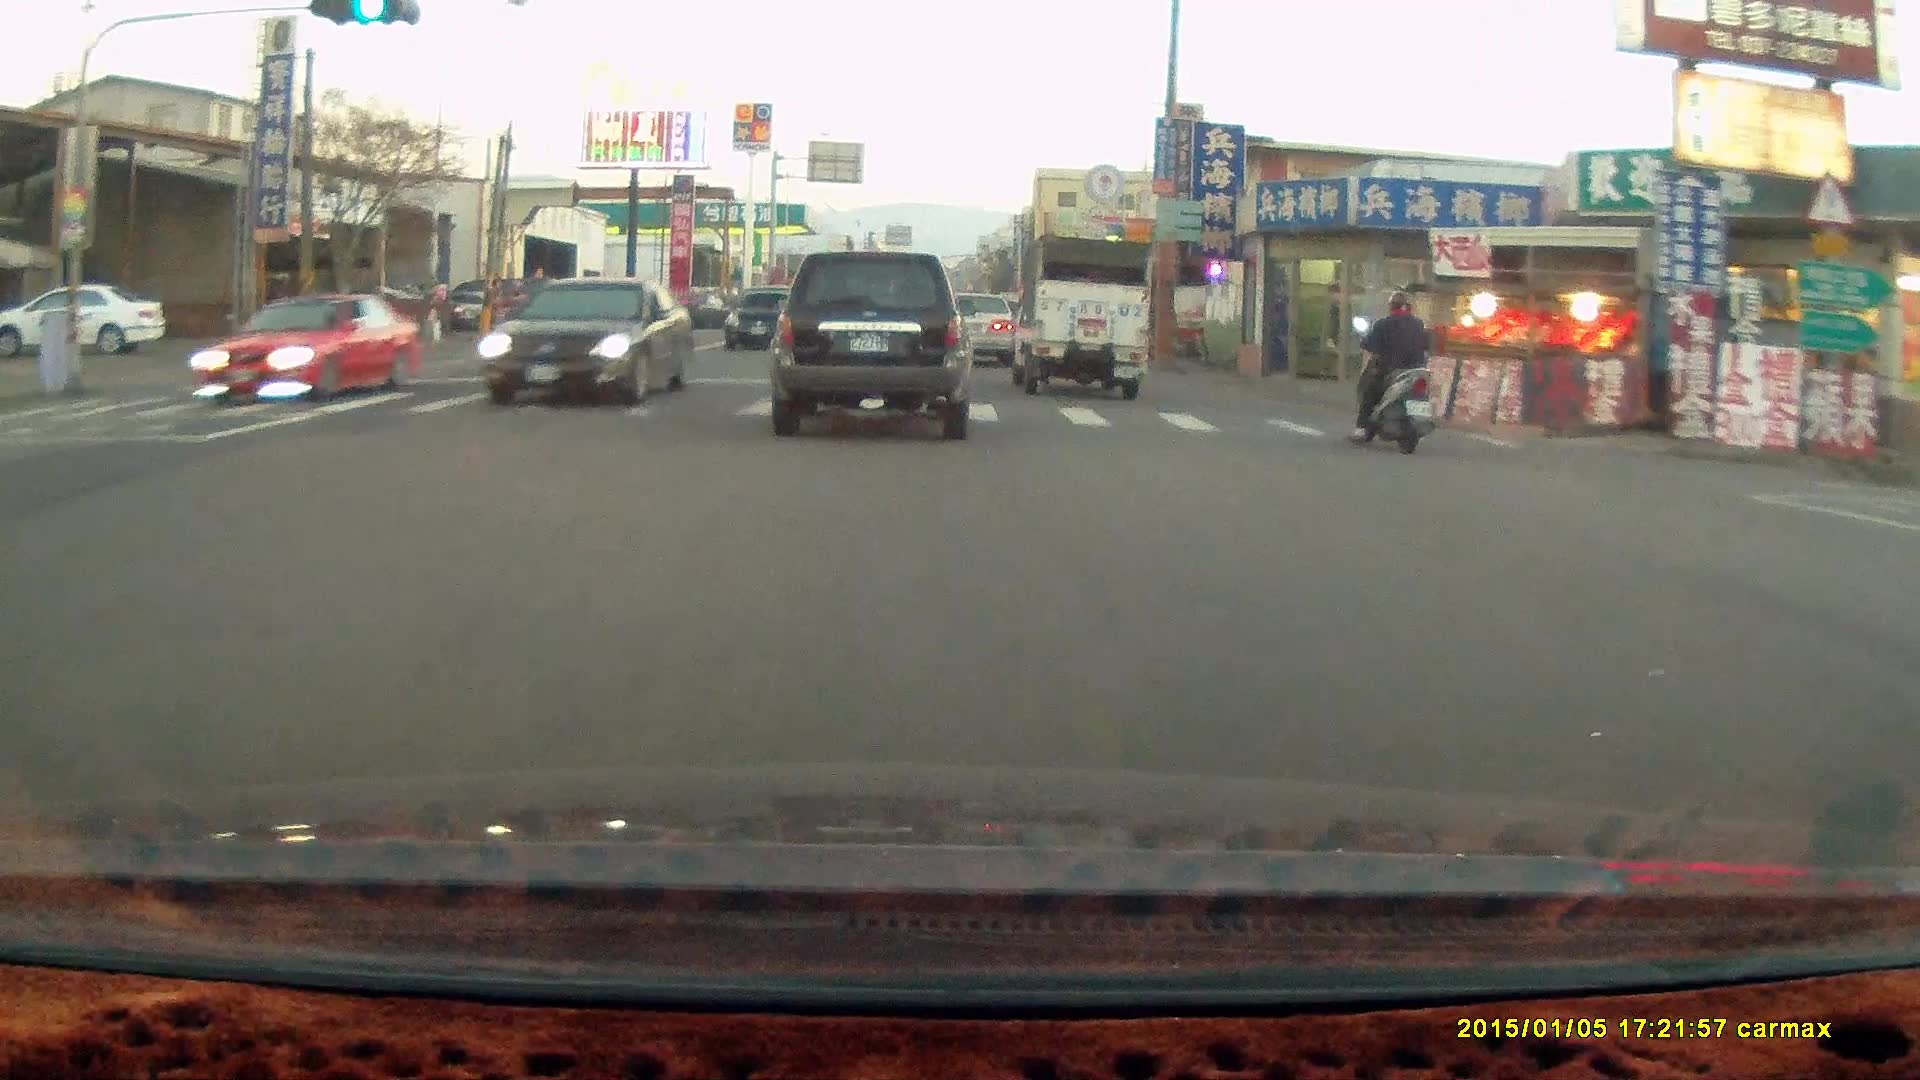rider: (1344, 292, 1434, 458)
vehicle: (766, 250, 976, 440), (484, 279, 695, 411), (186, 295, 419, 406), (1009, 232, 1155, 399), (4, 277, 168, 352), (935, 293, 1016, 369), (724, 285, 813, 352), (955, 285, 1029, 364)
